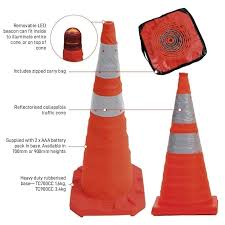cones: (69, 21, 145, 216), (150, 73, 218, 217)
